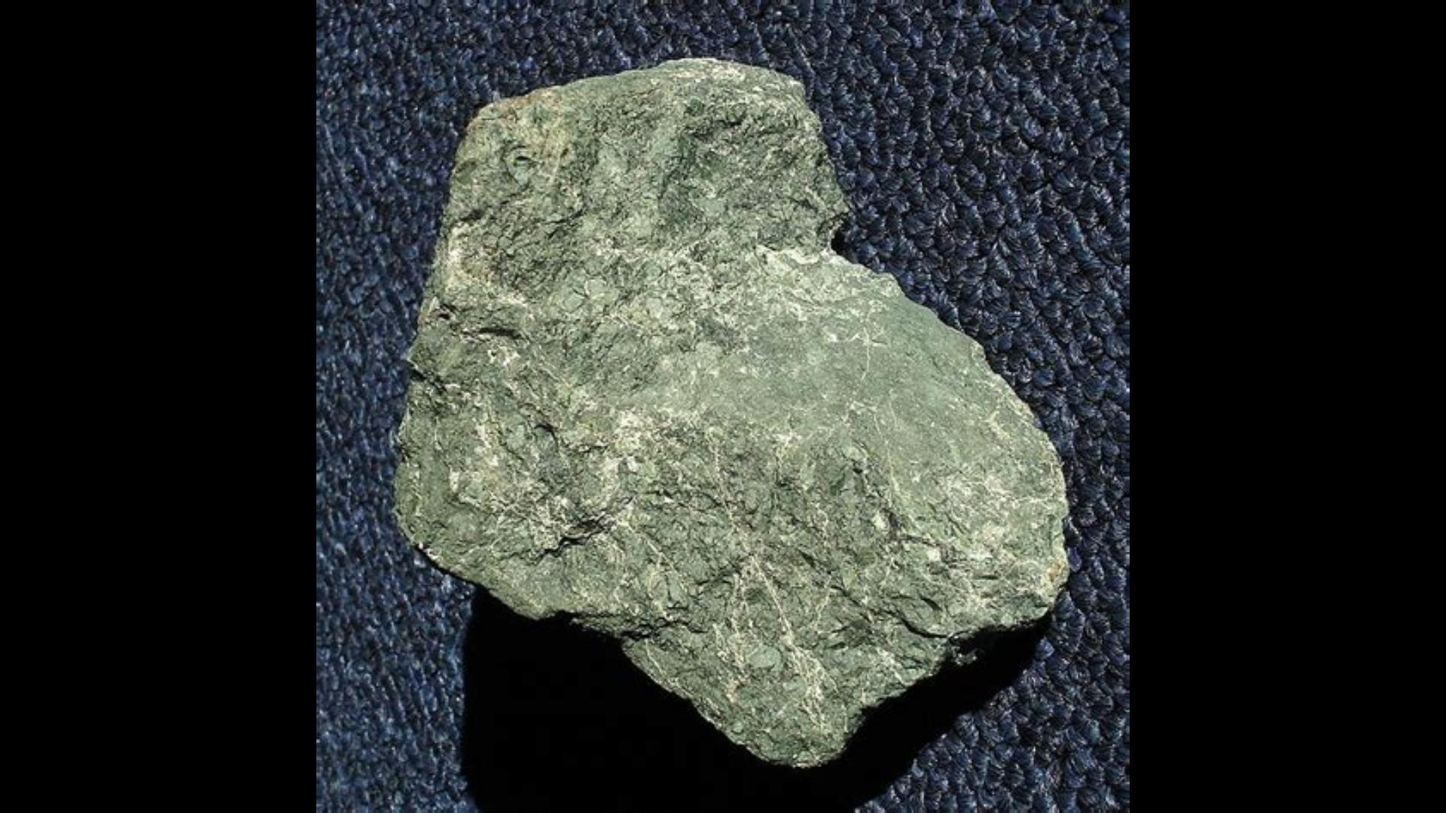rock: (397, 60, 1064, 763)
